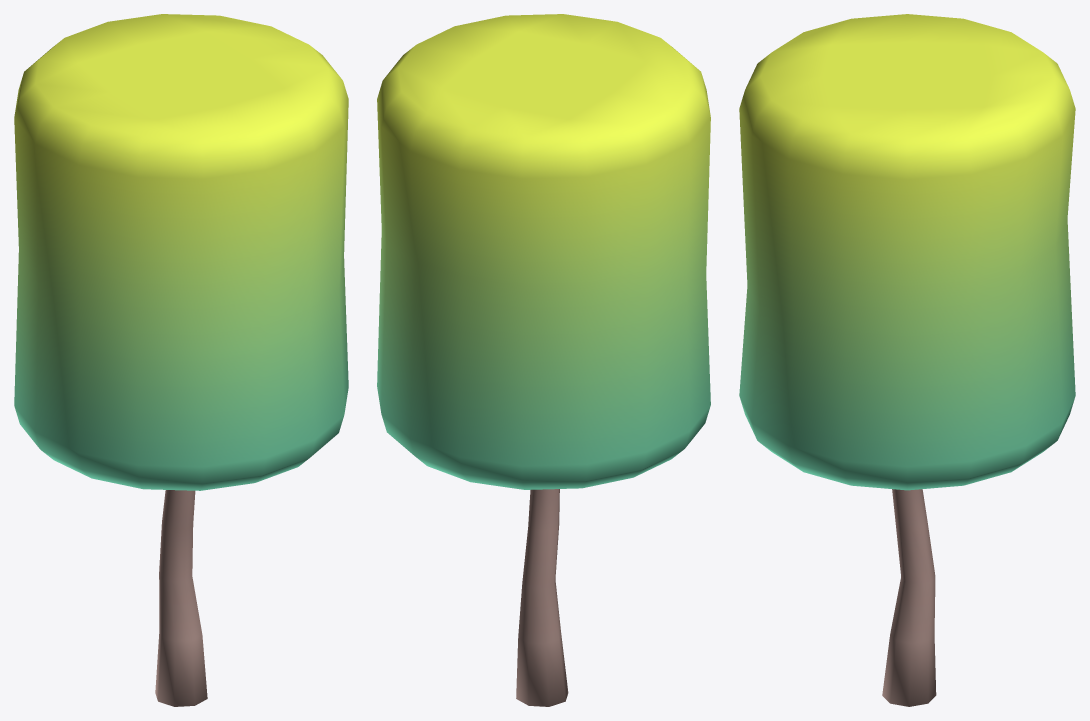
The model's file is Tree04_M_Green.fbx.
The picture shows the model from 3 angles, left to right: view 1: azimuth 30°, elevation 25°; view 2: azimuth 150°, elevation 25°; view 3: azimuth 270°, elevation 25°; orthographic projection.
Parts seen in each view (by area): view 1: Tree04_M_Green; view 2: Tree04_M_Green; view 3: Tree04_M_Green.
Part boxes in pixels (x1=…): Tree04_M_Green: x1=14, y1=14, x2=348, y2=706; Tree04_M_Green: x1=377, y1=14, x2=710, y2=706; Tree04_M_Green: x1=739, y1=14, x2=1075, y2=706.
Size of the model in its own units: 4.65 by 9.51 by 4.65.
